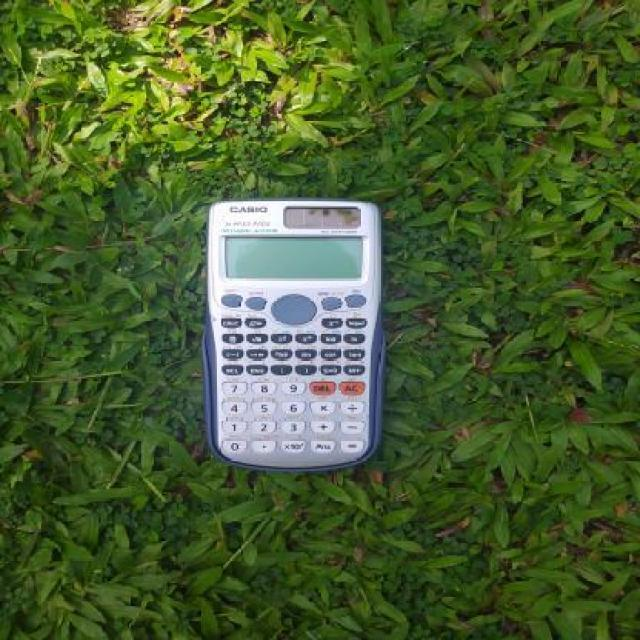Calculator: (191, 195, 395, 480)
